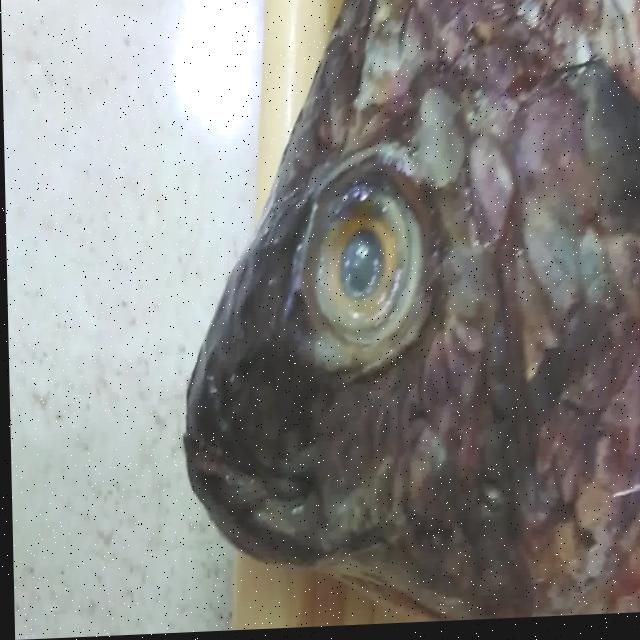Non-Fresh: (286, 136, 451, 395)
